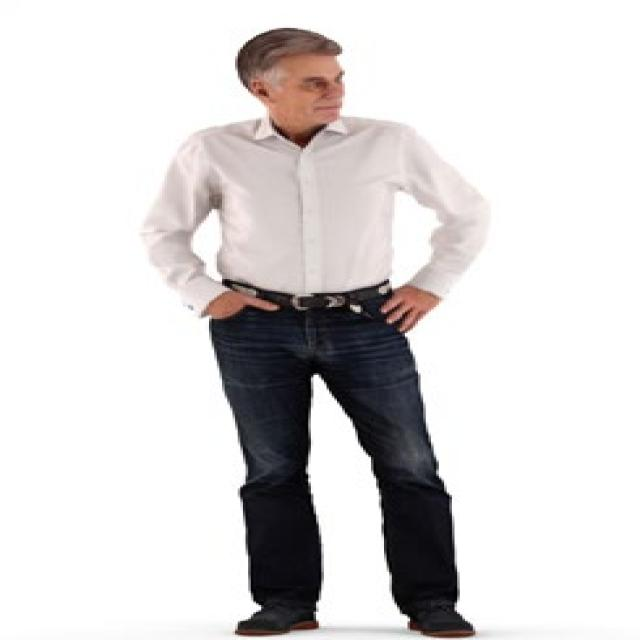standing: (139, 25, 486, 640)
